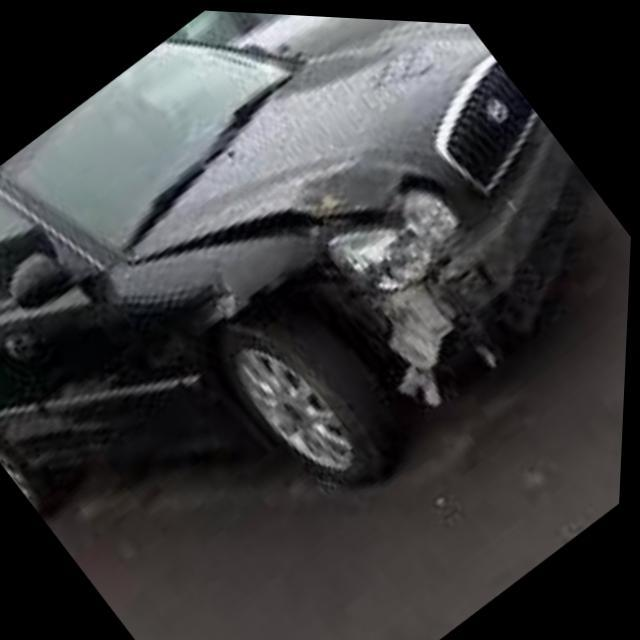dislocated part: (131, 201, 384, 264)
lamp broken: (329, 174, 465, 280)
no part: (195, 228, 544, 410)
